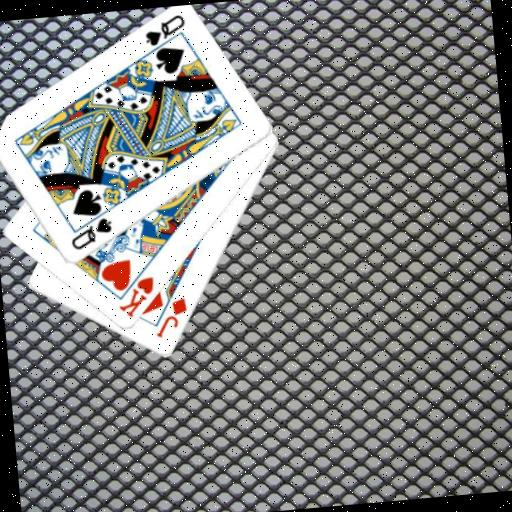JD: (150, 295, 192, 341)
KH: (113, 274, 159, 321)
QS: (66, 215, 116, 253), (140, 12, 188, 49)
